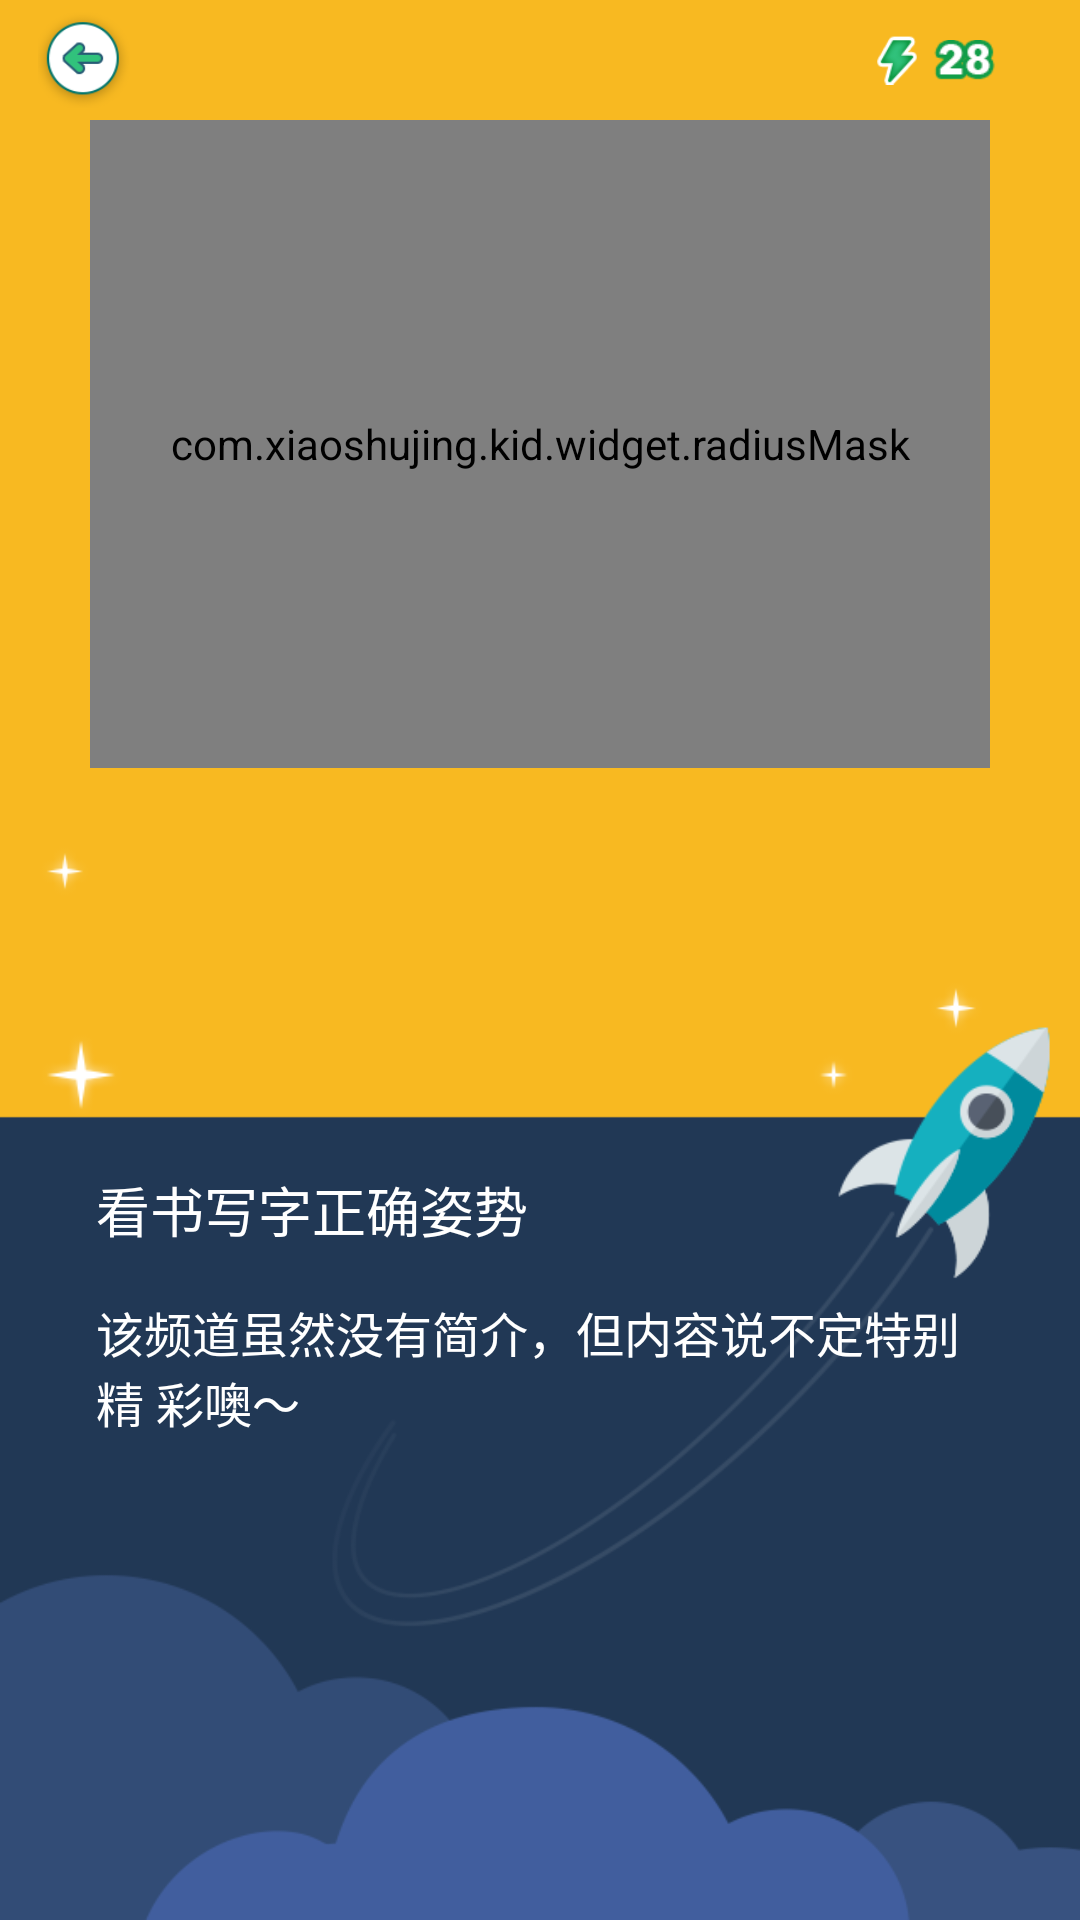

Where to tap for icons on this 1080px x 1920px app screen, as [x,y]:
back: [83,60]
energy home: [897,60]
